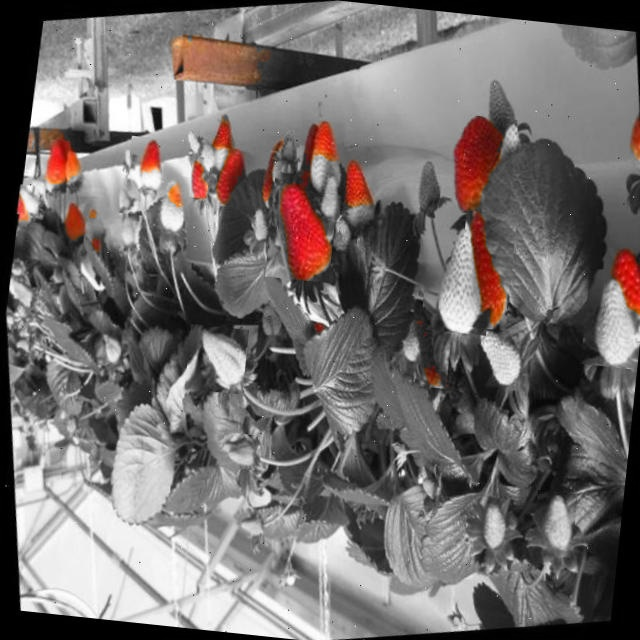ripe: (438, 112, 518, 216), (264, 172, 339, 282), (400, 296, 455, 388), (203, 146, 250, 208), (36, 138, 70, 190), (54, 195, 88, 242), (180, 155, 210, 198), (15, 192, 30, 226)
unripe: (420, 217, 497, 335), (454, 210, 517, 330), (579, 268, 640, 369), (466, 312, 530, 395), (184, 324, 248, 394), (599, 243, 640, 342), (295, 118, 346, 194), (531, 490, 577, 558), (147, 172, 191, 236), (472, 495, 514, 553), (126, 136, 166, 190), (306, 170, 344, 222), (230, 504, 268, 543), (392, 318, 422, 366), (220, 432, 258, 469), (112, 172, 144, 214), (95, 329, 124, 365), (112, 212, 140, 249), (16, 184, 41, 216), (16, 184, 39, 218), (114, 145, 136, 171)
